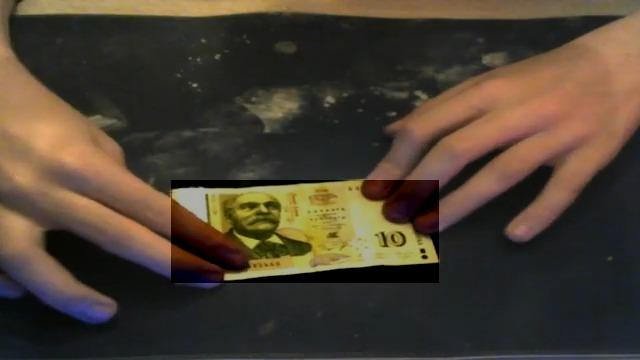10leva: (171, 180, 439, 283)
